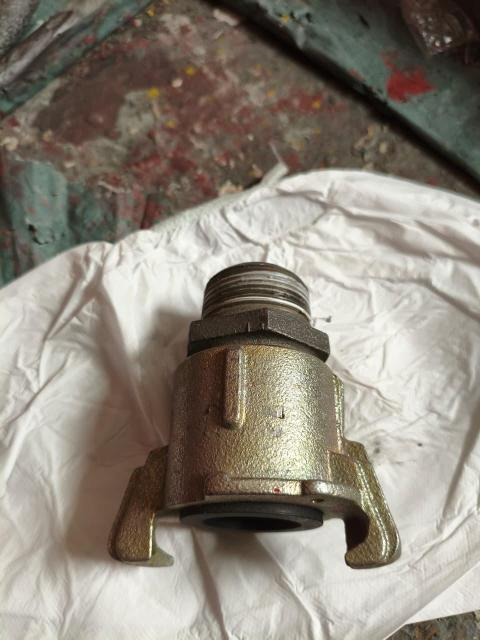Metal: (98, 263, 405, 577)
